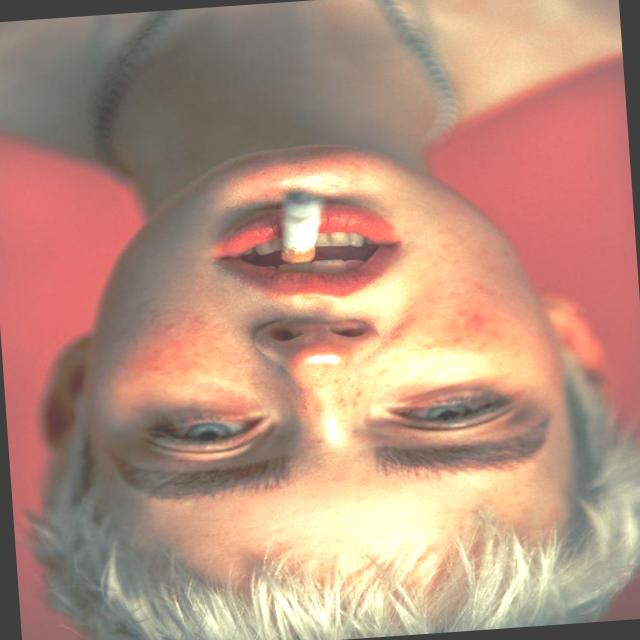cigarette: (260, 184, 336, 278)
